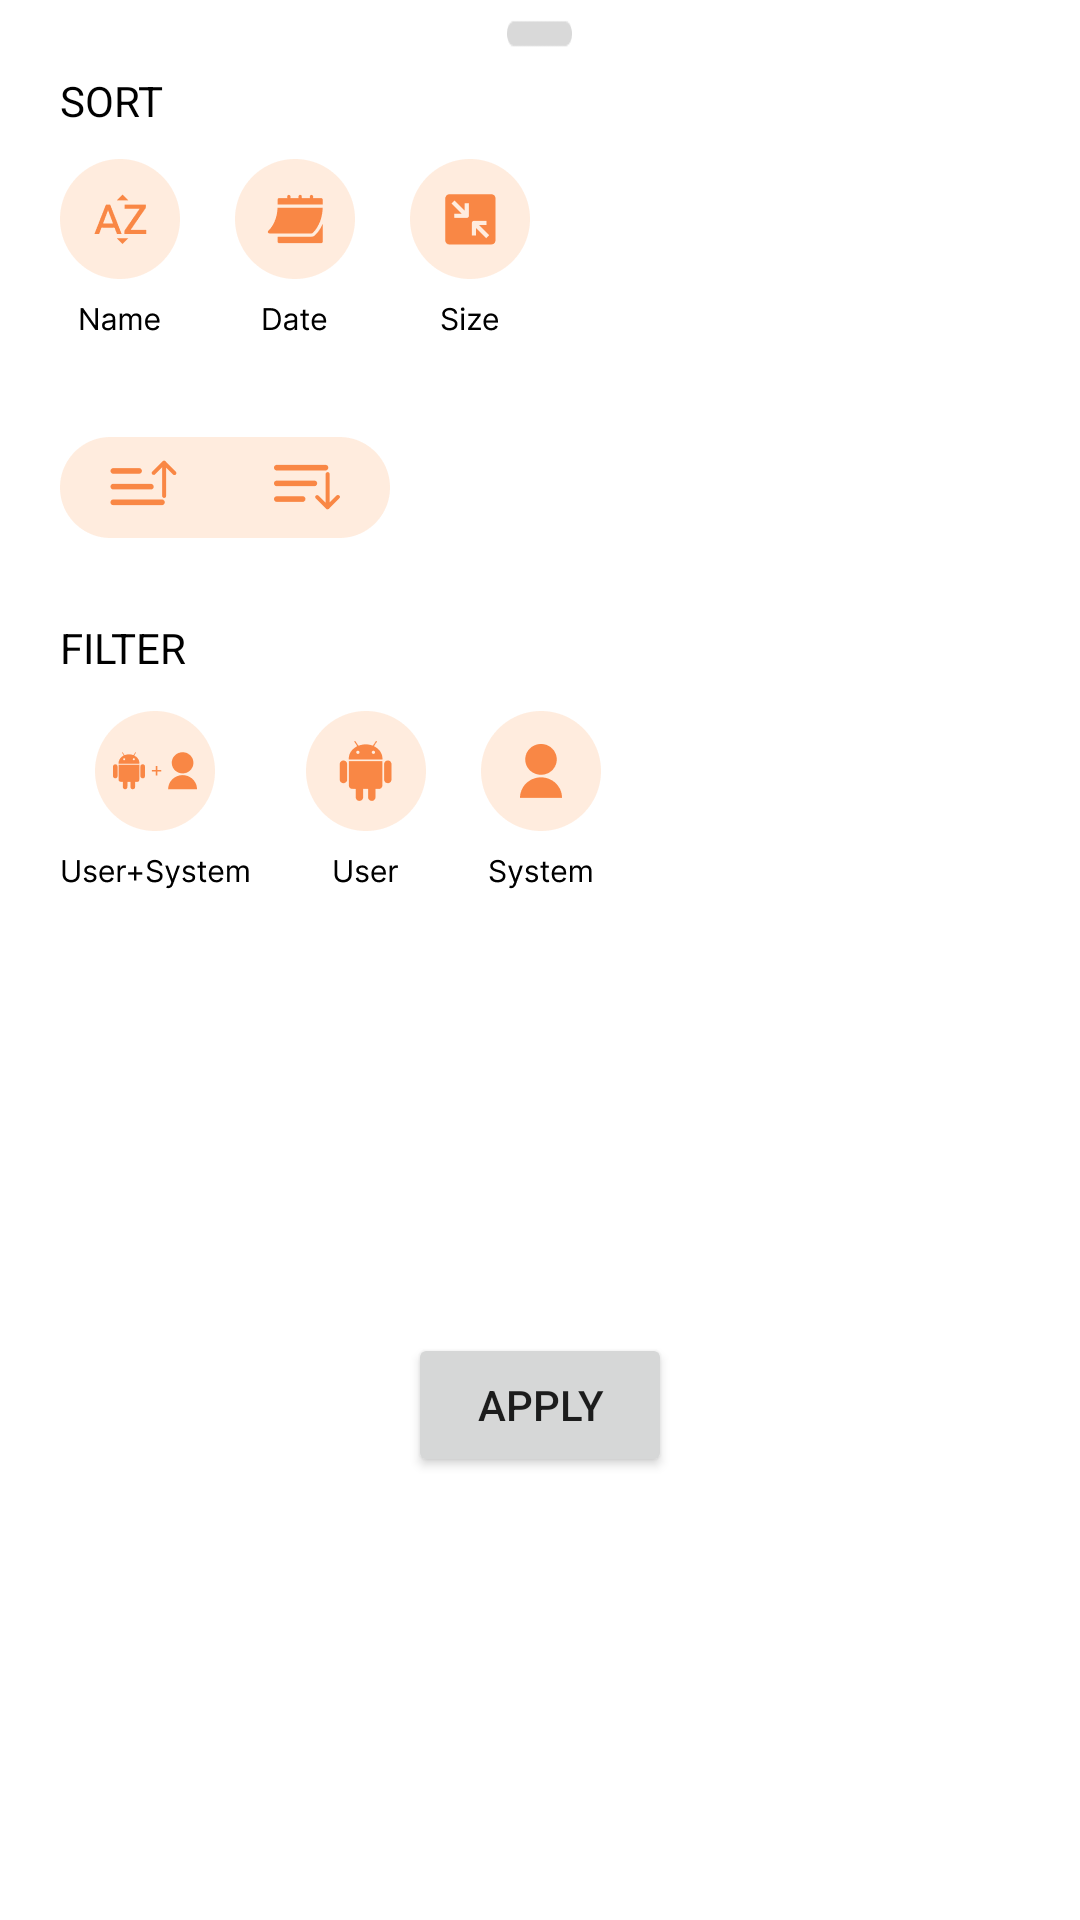

Locate icon controls on the screen. Image size 1080 × 1920, boxes as (x1, y1, x2, y2).
ascending order: (60, 437, 225, 538)
desending order: (225, 437, 390, 538)
